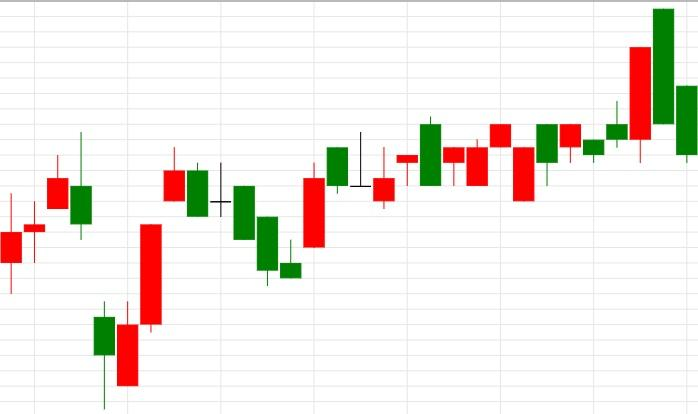bearish_engulfing_fall: (279, 116, 442, 280)
three_white_soldiers_rise: (46, 131, 186, 410)
